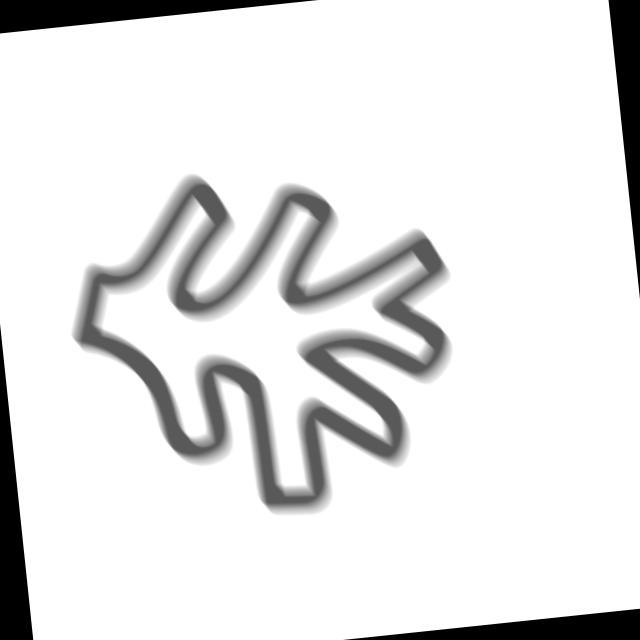coral: (47, 138, 486, 544)
